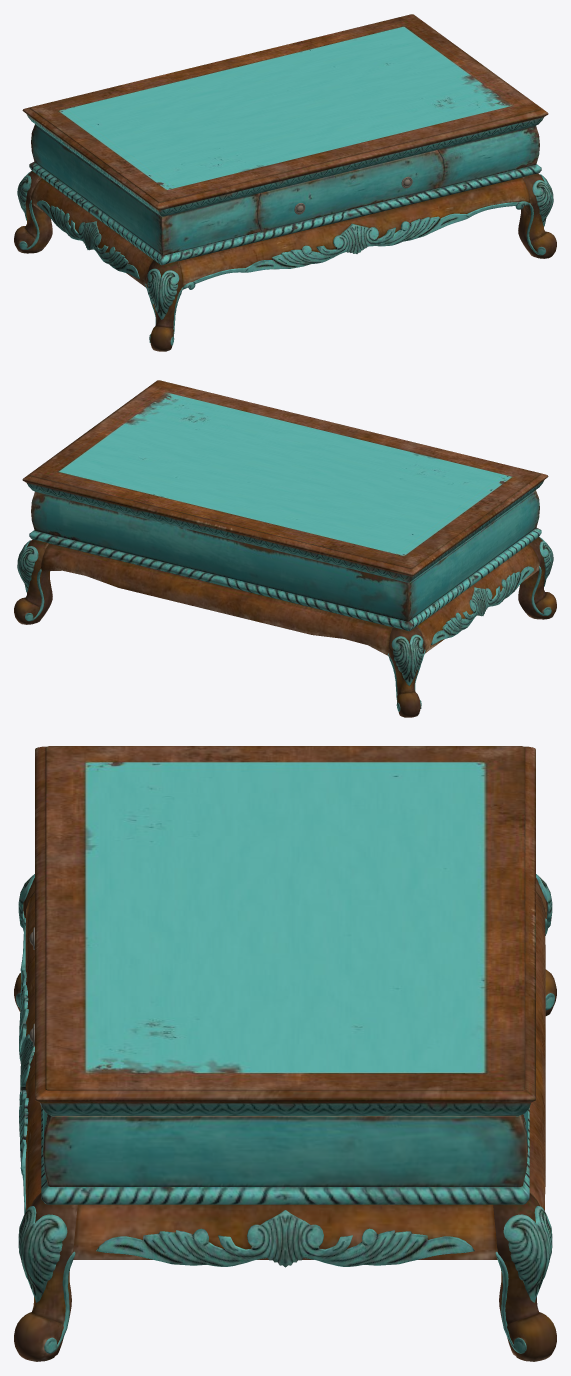
File: CoffeeTable_01.glb
3 renders of one model, top to bottom at view 1: azimuth 30°, elevation 25°; view 2: azimuth 150°, elevation 25°; view 3: azimuth 270°, elevation 25°, orthographic. The views are drawn at different scales.
Parts seen in each view (by area): view 1: CoffeeTable_01; view 2: CoffeeTable_01; view 3: CoffeeTable_01.
Part boxes in pixels (x1,y1,x2,y2): CoffeeTable_01: (14, 14, 556, 351); CoffeeTable_01: (14, 380, 556, 717); CoffeeTable_01: (14, 746, 556, 1361).
Size of the model in its own units: 1.54 by 0.5232 by 0.9728.
1 material, 1 textured.
